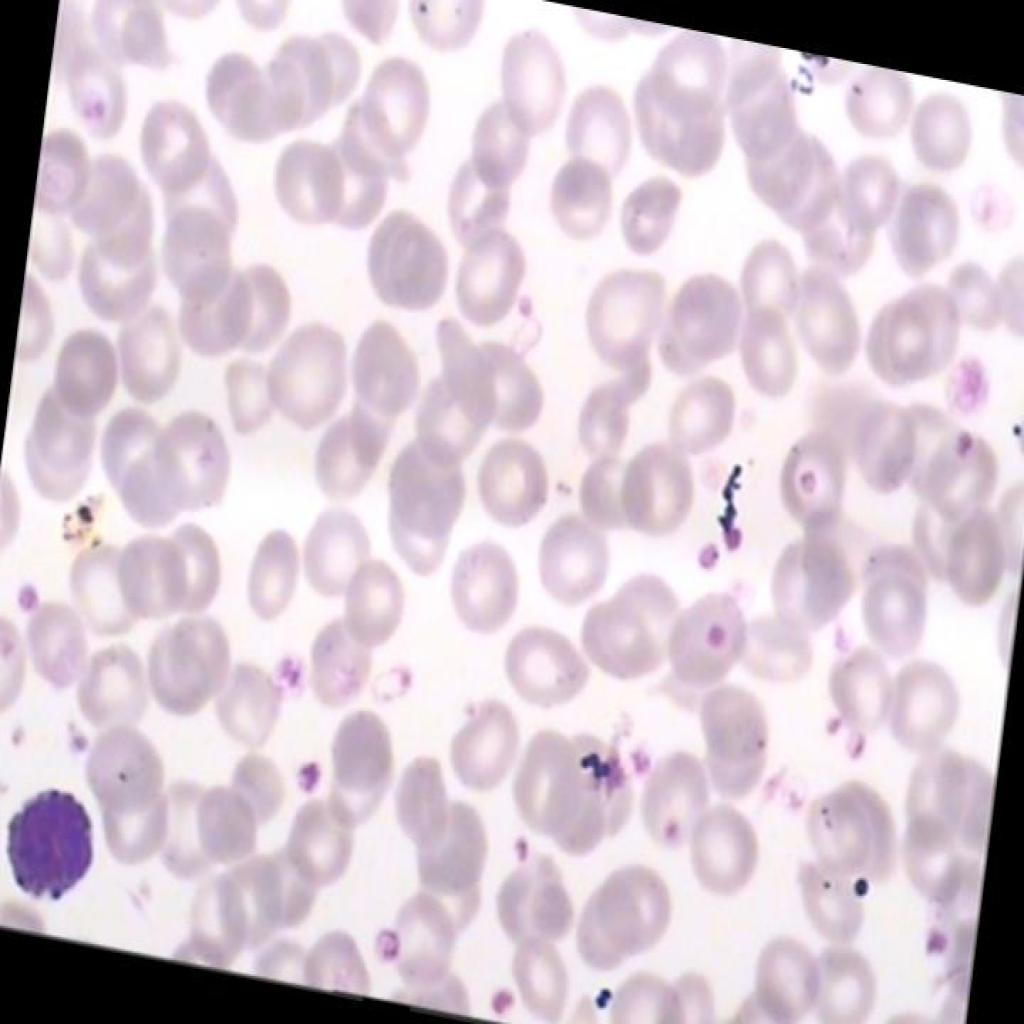Basofil: (0, 761, 107, 931)
Platelet: (943, 345, 997, 418), (0, 711, 55, 778), (778, 445, 835, 503), (2, 564, 44, 640), (610, 724, 657, 790), (282, 745, 330, 807), (640, 793, 686, 857), (577, 967, 630, 1022), (943, 414, 988, 475), (963, 176, 1008, 235), (680, 532, 727, 586), (270, 631, 306, 701), (913, 906, 953, 964), (711, 505, 752, 560), (479, 972, 519, 1022), (63, 711, 95, 770), (364, 910, 401, 960), (498, 814, 533, 859), (702, 608, 732, 649)
